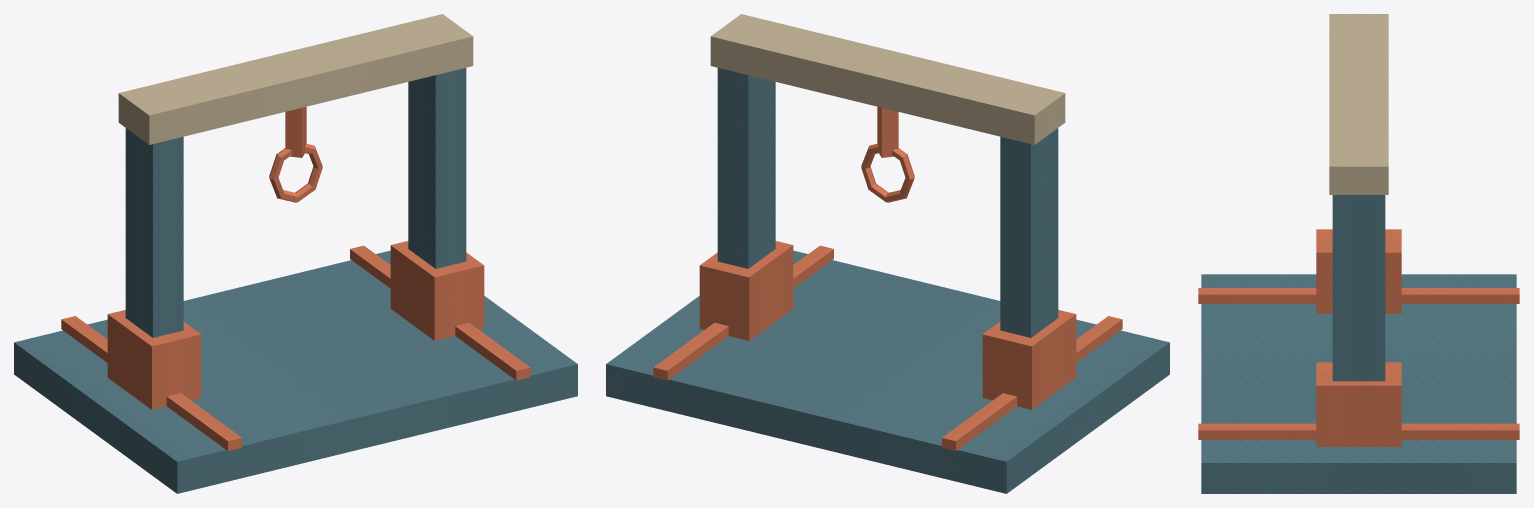
The model's file is atlas100-s044-a02.lod2.glb.
The picture shows the model from 3 angles, left to right: view 1: azimuth 30°, elevation 25°; view 2: azimuth 150°, elevation 25°; view 3: azimuth 270°, elevation 25°; orthographic projection. The views are drawn at different scales.
Parts seen in each view (by area): view 1: atlas100-s044-a02:part-000, atlas100-s044-a02:part-007, atlas100-s044-a02:part-003, atlas100-s044-a02:part-005, atlas100-s044-a02:part-006, atlas100-s044-a02:part-004, atlas100-s044-a02:part-001, atlas100-s044-a02:part-002, atlas100-s044-a02:part-009, atlas100-s044-a02:part-008; view 2: atlas100-s044-a02:part-000, atlas100-s044-a02:part-007, atlas100-s044-a02:part-003, atlas100-s044-a02:part-005, atlas100-s044-a02:part-006, atlas100-s044-a02:part-004, atlas100-s044-a02:part-001, atlas100-s044-a02:part-002, atlas100-s044-a02:part-009, atlas100-s044-a02:part-008; view 3: atlas100-s044-a02:part-000, atlas100-s044-a02:part-007, atlas100-s044-a02:part-005, atlas100-s044-a02:part-006, atlas100-s044-a02:part-002, atlas100-s044-a02:part-001, atlas100-s044-a02:part-004.
Boxes of the visible parts, x1=… form: atlas100-s044-a02:part-000: x1=14, y1=250, x2=577, y2=493; atlas100-s044-a02:part-007: x1=118, y1=14, x2=473, y2=144; atlas100-s044-a02:part-003: x1=125, y1=128, x2=183, y2=337; atlas100-s044-a02:part-005: x1=408, y1=68, x2=466, y2=268; atlas100-s044-a02:part-006: x1=390, y1=241, x2=484, y2=340; atlas100-s044-a02:part-004: x1=107, y1=310, x2=201, y2=409; atlas100-s044-a02:part-001: x1=61, y1=316, x2=241, y2=450; atlas100-s044-a02:part-002: x1=350, y1=245, x2=530, y2=380; atlas100-s044-a02:part-009: x1=269, y1=144, x2=322, y2=202; atlas100-s044-a02:part-008: x1=285, y1=106, x2=306, y2=157; atlas100-s044-a02:part-000: x1=606, y1=250, x2=1169, y2=493; atlas100-s044-a02:part-007: x1=710, y1=14, x2=1065, y2=144; atlas100-s044-a02:part-003: x1=1000, y1=128, x2=1058, y2=337; atlas100-s044-a02:part-005: x1=717, y1=68, x2=775, y2=268; atlas100-s044-a02:part-006: x1=699, y1=241, x2=793, y2=340; atlas100-s044-a02:part-004: x1=982, y1=310, x2=1076, y2=409; atlas100-s044-a02:part-001: x1=942, y1=316, x2=1122, y2=450; atlas100-s044-a02:part-002: x1=653, y1=245, x2=833, y2=380; atlas100-s044-a02:part-009: x1=861, y1=144, x2=914, y2=202; atlas100-s044-a02:part-008: x1=877, y1=106, x2=898, y2=157; atlas100-s044-a02:part-000: x1=1201, y1=274, x2=1516, y2=493; atlas100-s044-a02:part-007: x1=1329, y1=14, x2=1388, y2=194; atlas100-s044-a02:part-005: x1=1332, y1=195, x2=1385, y2=381; atlas100-s044-a02:part-006: x1=1316, y1=362, x2=1401, y2=446; atlas100-s044-a02:part-002: x1=1198, y1=423, x2=1519, y2=439; atlas100-s044-a02:part-001: x1=1198, y1=288, x2=1519, y2=303; atlas100-s044-a02:part-004: x1=1316, y1=229, x2=1401, y2=313.
Bounding box in the file's own units: 3.4 × 2.6 × 2.45.
3 materials, 3 textured.
